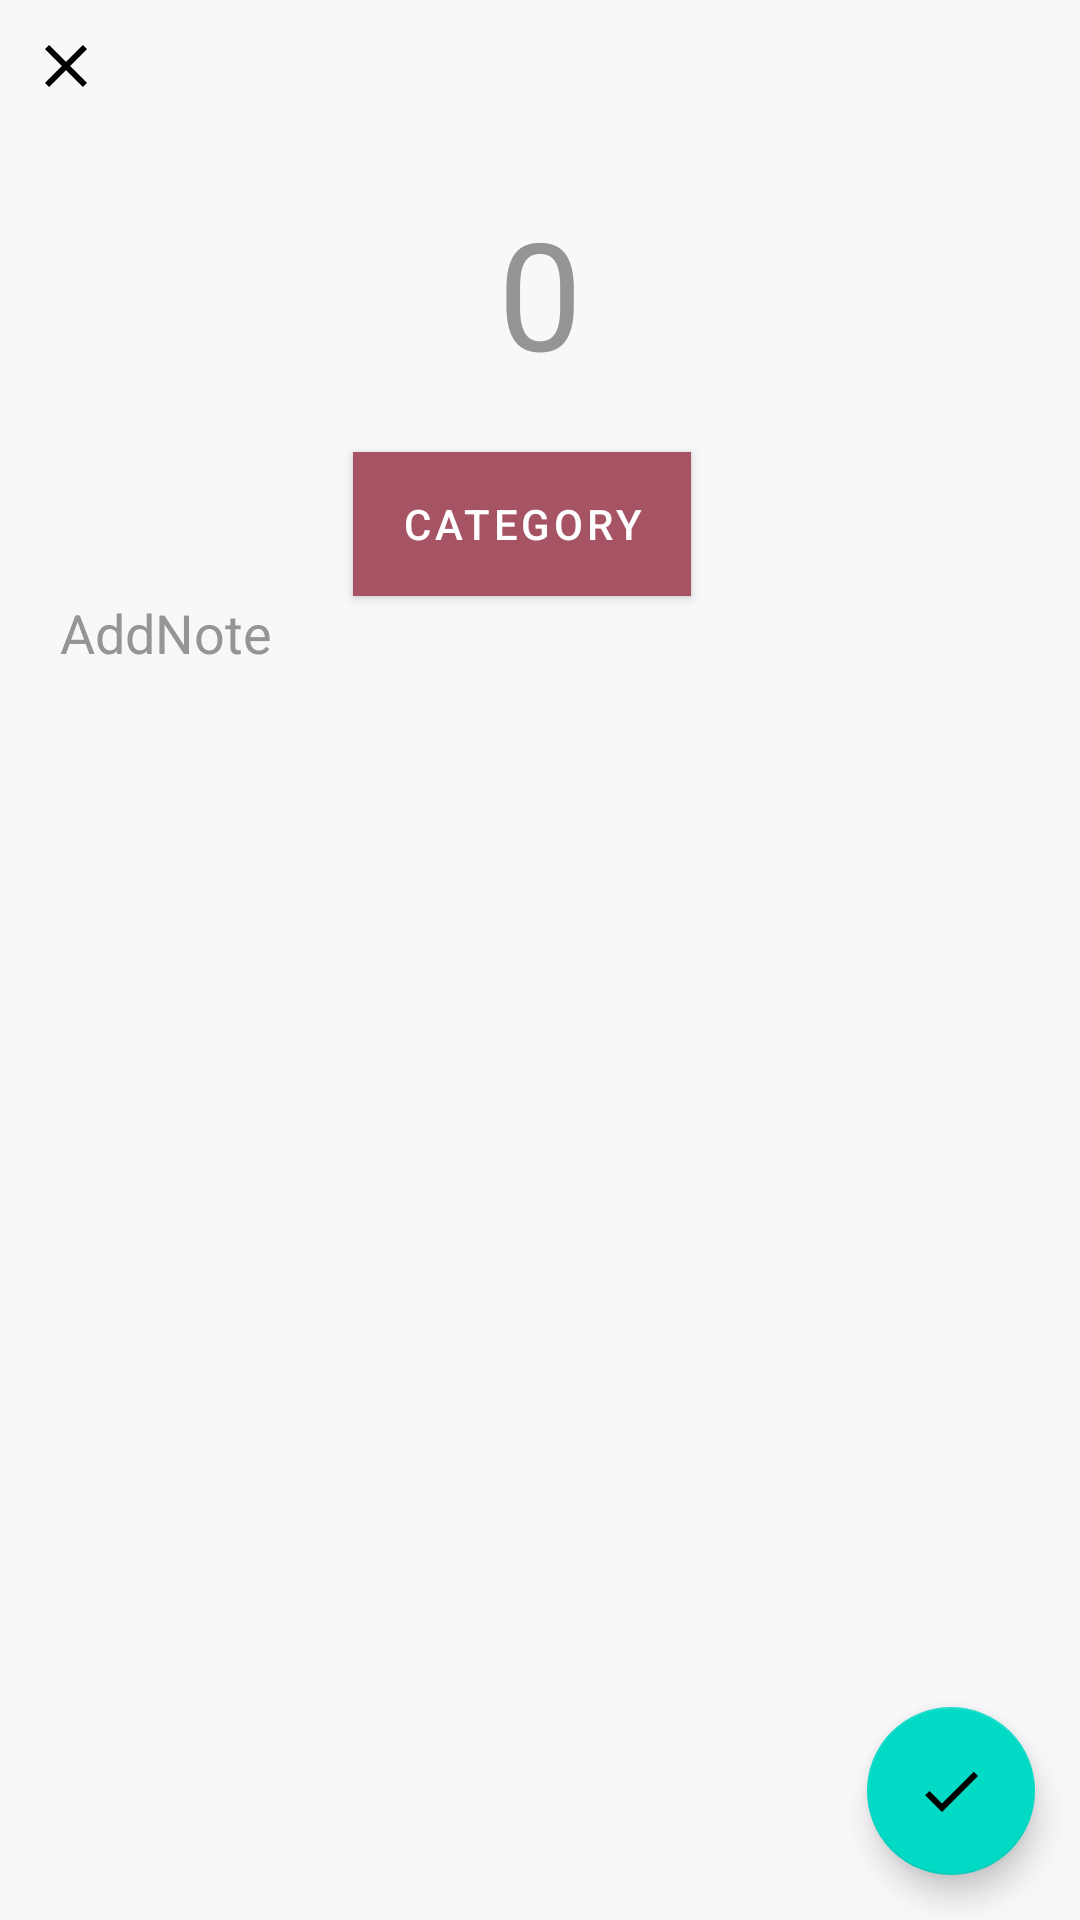

Locate icon controls on the screen. Image size 1080 x 1920, boxes as (x1, y1, x2, y2).
close: (45, 45, 87, 87)
